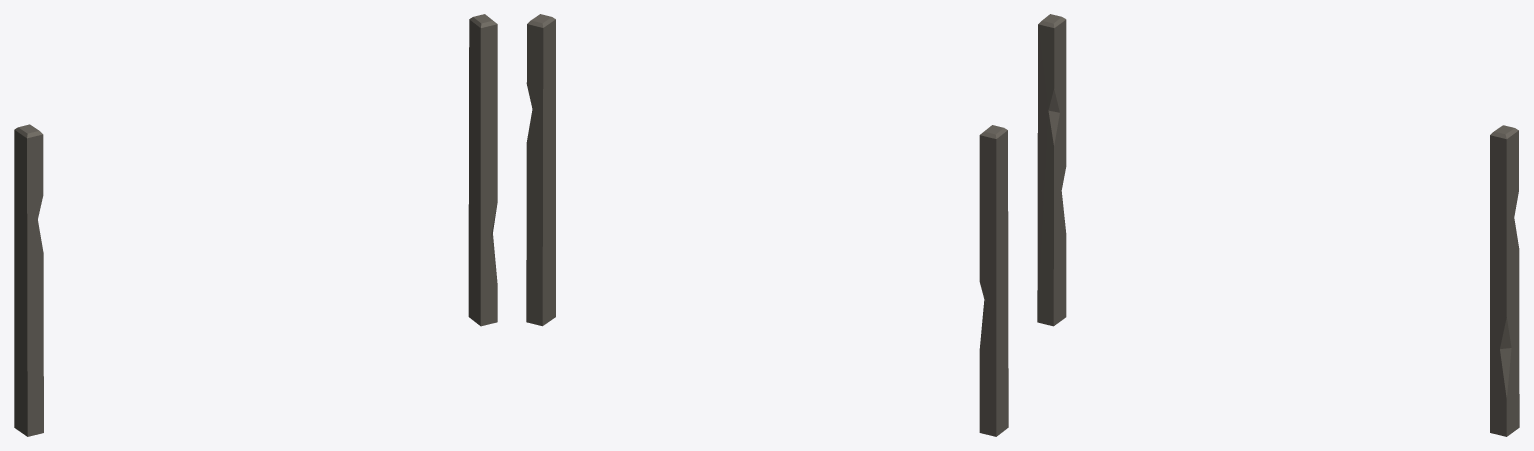
Rendered from SM_Prop_Washingline_Small_Poles_01.fbx.
The picture shows the model from 3 angles, left to right: view 1: azimuth 30°, elevation 25°; view 2: azimuth 150°, elevation 25°; view 3: azimuth 330°, elevation 25°; orthographic projection.
Visible parts, largest first — view 1: SM_Prop_Washingline_Small_Poles_01; view 2: SM_Prop_Washingline_Small_Poles_01; view 3: SM_Prop_Washingline_Small_Poles_01.
Part boxes in pixels (bbox=[...]): SM_Prop_Washingline_Small_Poles_01: bbox=[14, 14, 497, 436]; SM_Prop_Washingline_Small_Poles_01: bbox=[526, 14, 1008, 436]; SM_Prop_Washingline_Small_Poles_01: bbox=[1037, 14, 1519, 436].
Bounding box in the file's own units: 418 × 255 × 19.64.
